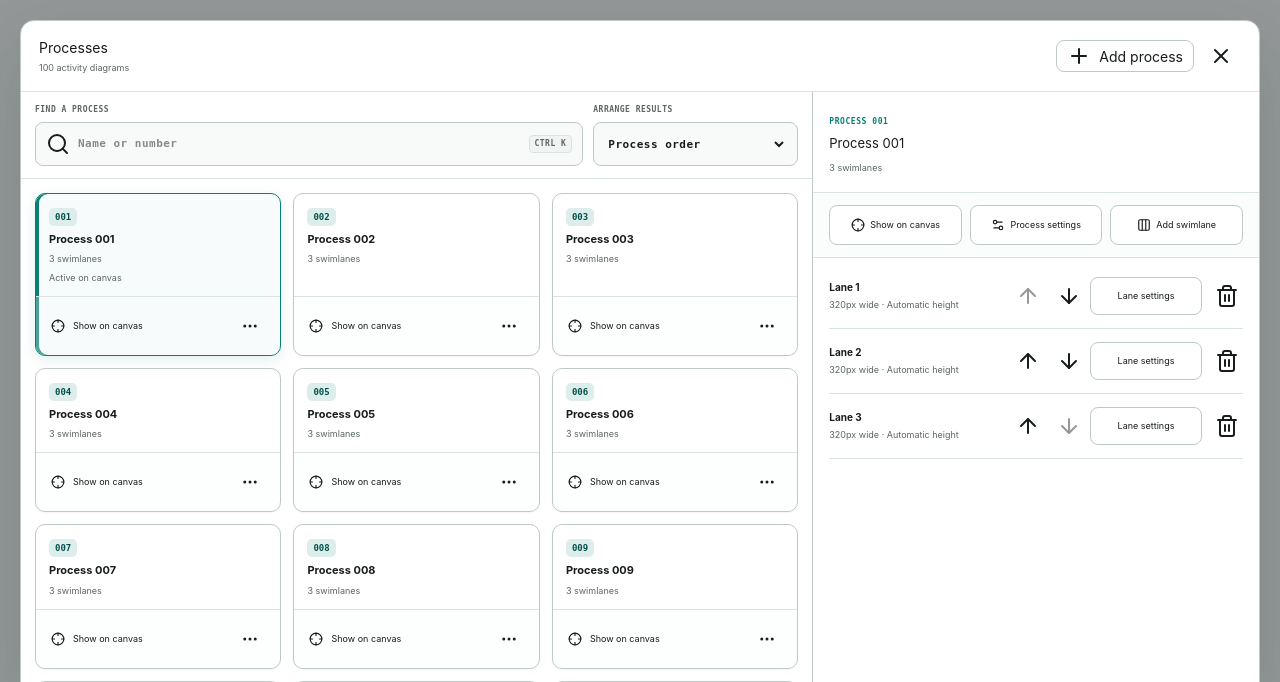
it: process manager dialog › filters 100 lightweight cards while rendering lanes only for the selected process
The image size is (1280, 682).
Expected: the number of buttons named "Lane settings for" is 3, left=1090, top=277, right=1202, bottom=315; left=1090, top=342, right=1202, bottom=380; left=1090, top=407, right=1202, bottom=445
In the search field labelled "Find a process": [299, 144] box left=78, top=138, right=520, bottom=150, type "Process 099"
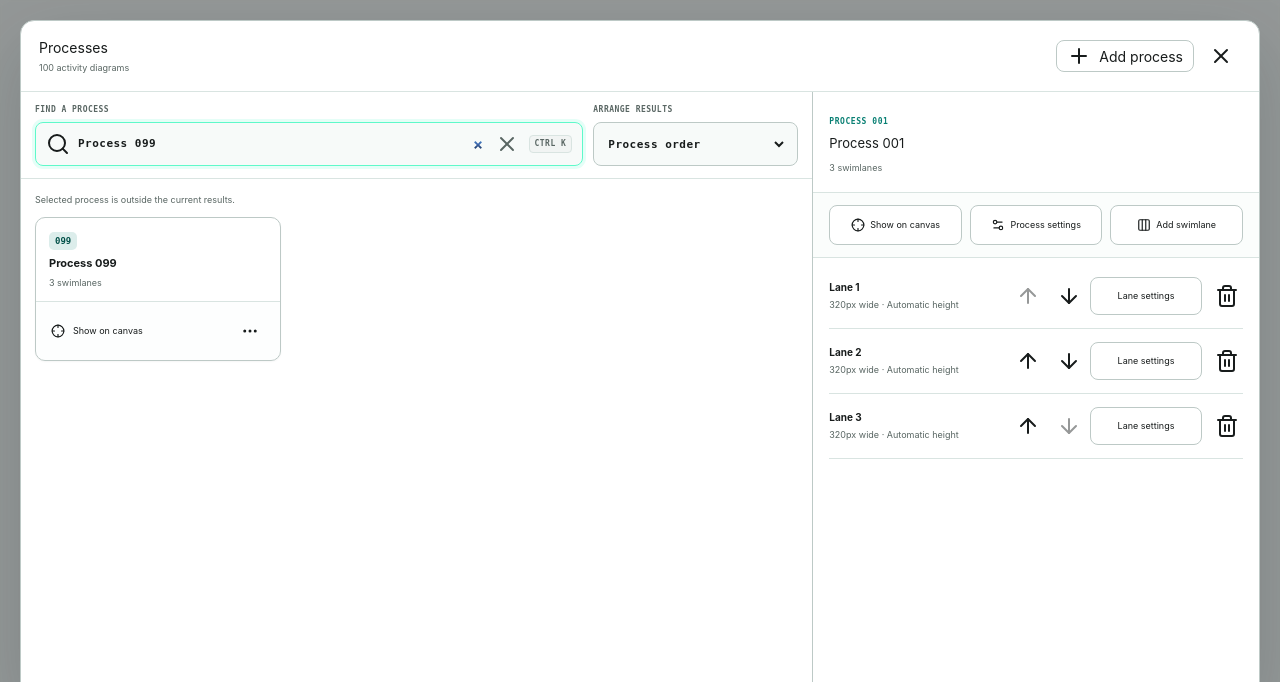
Expected: the button with aria-label "Select Process 099" is shown, left=36, top=218, right=280, bottom=301
